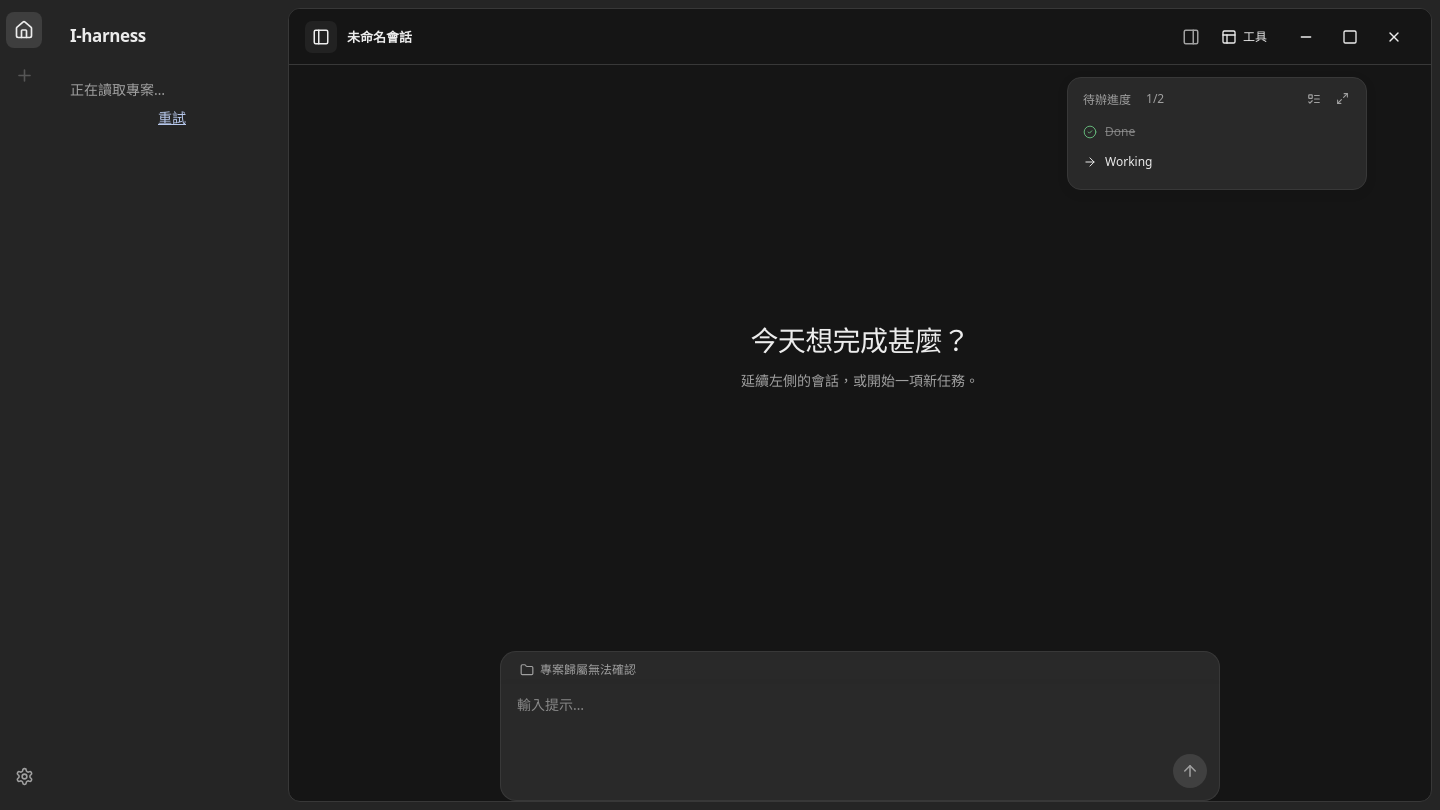
Test: opens the existing Todo CRUD pane from the conversation and reflects its accepted revision
Expected: the text named "已完成 1/2" is shown, [1146,90,1164,107]
Click the button named "開啟待辦編輯" at (1342, 98), box [1330,86,1354,110]
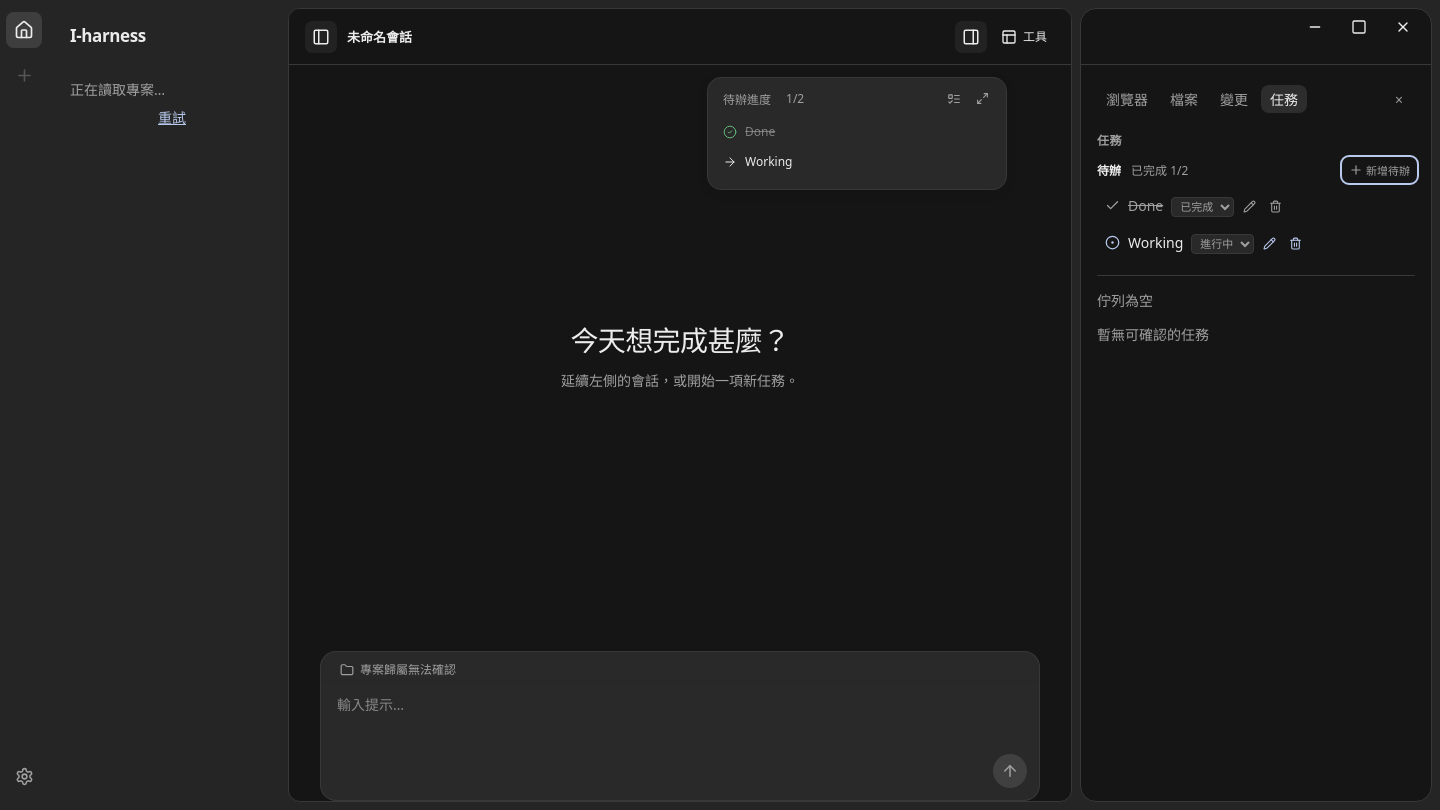
Select "已完成" in the dropdown named "Working 的狀態" at (1223, 244), box [1191,234,1254,254]
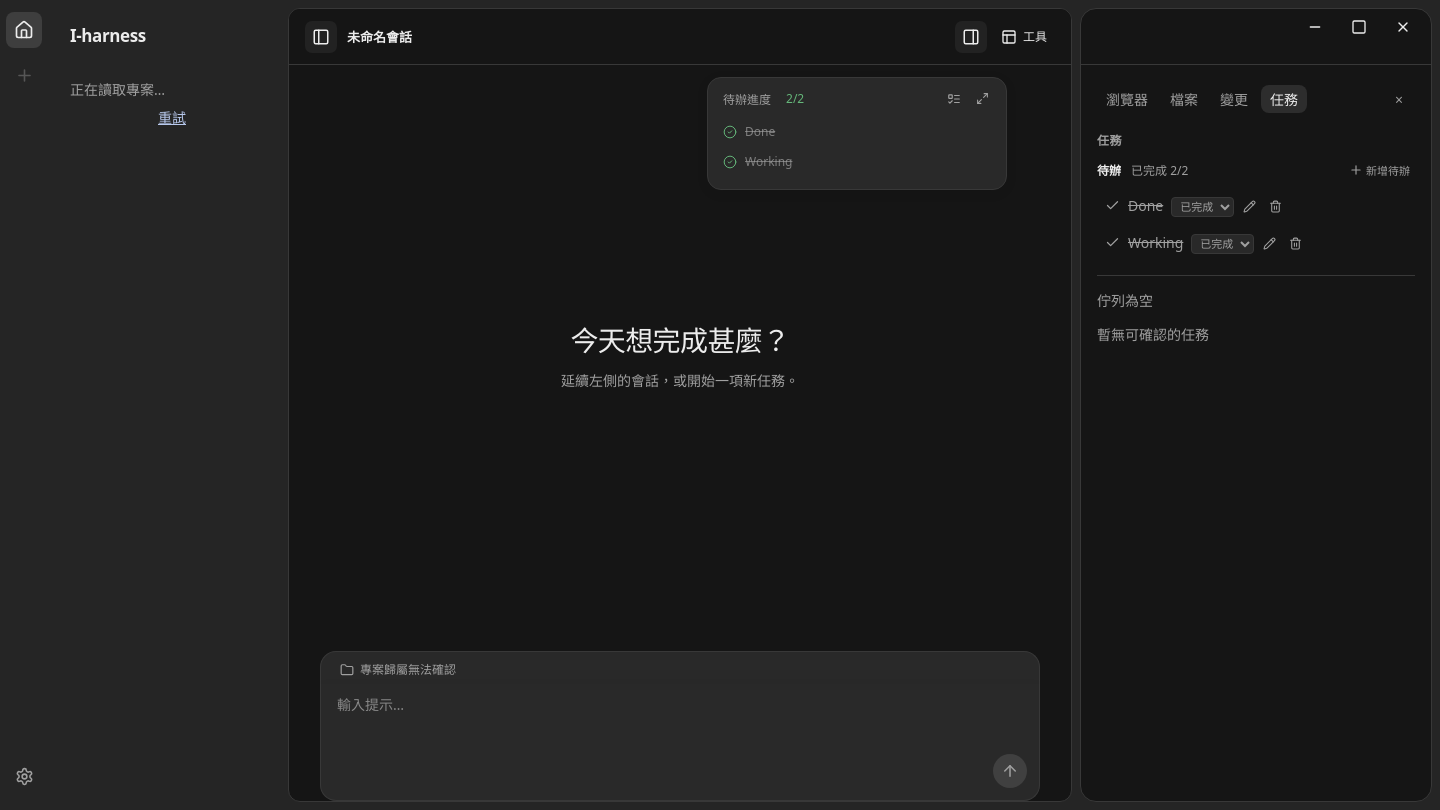
Now the text named "已完成 2/2" is shown, box [786,90,804,107]
